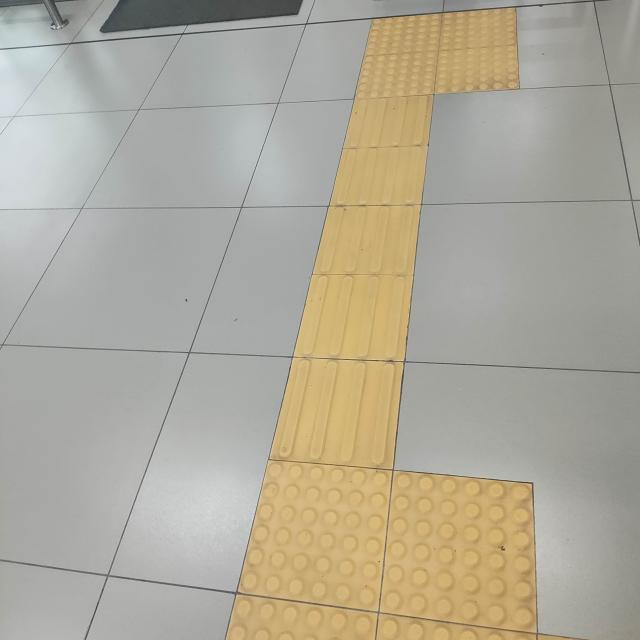lurus: (289, 83, 426, 468)
